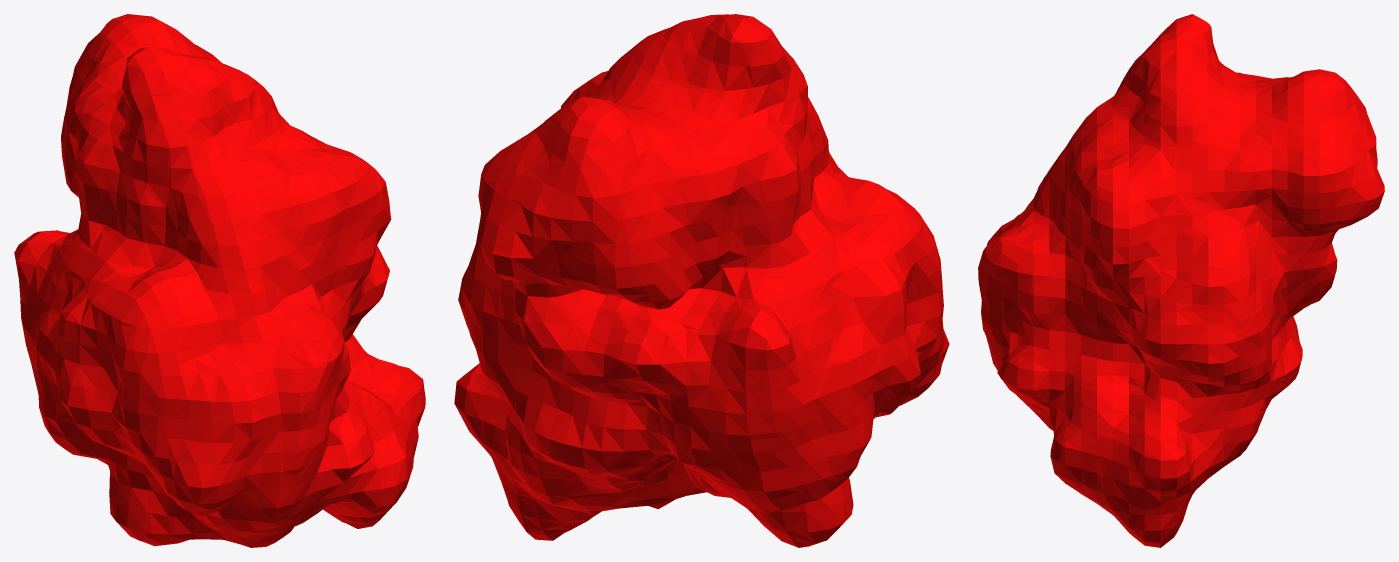
File: pepN_coarse.dae
The picture shows the model from 3 angles, left to right: view 1: azimuth 30°, elevation 25°; view 2: azimuth 150°, elevation 25°; view 3: azimuth 270°, elevation 25°; orthographic projection. The views are drawn at different scales.
Parts seen in each view (by area): view 1: pepN; view 2: pepN; view 3: pepN.
Boxes of the visible parts, box(x1,y1,x2,y2) form: pepN: box(14, 14, 425, 547); pepN: box(454, 14, 949, 547); pepN: box(978, 14, 1384, 547).
Bounding box in the file's own units: 73.98 × 95.78 × 78.84.
